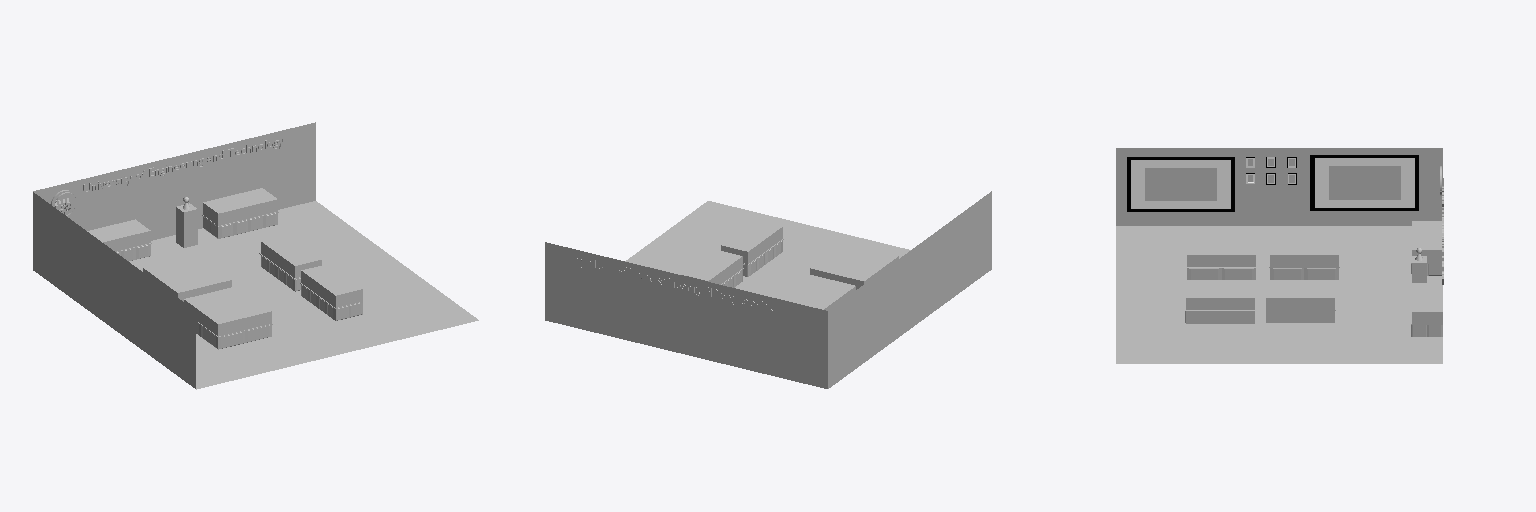
Rendered from room.obj.
The picture shows the model from 3 angles: view 1: azimuth 30°, elevation 25°; view 2: azimuth 150°, elevation 25°; view 3: azimuth 270°, elevation 25°; orthographic projection.
Visible parts, largest first — view 1: Plane_Plane.001, Cube.003, Cube.001, Cube.005, Cube.004, Cube.007, Cube.002, Text, Lập_Phương; view 2: Plane_Plane.001, Cube.003, Cube.005, Cube.004, Cube.007, Text; view 3: Plane_Plane.001, Box006.007_Untitled.007, Box006.006_Untitled.006, Cube.003, Cube.004, Cube.005, Cube.007, Cube.001, Cube.002.
Part boxes in pixels (x1,y1,x2,y2): Plane_Plane.001: (33, 122, 478, 389); Cube.003: (184, 286, 272, 349); Cube.001: (202, 188, 278, 238); Cube.005: (300, 264, 362, 320); Cube.004: (143, 255, 231, 301); Cube.007: (259, 235, 321, 291); Cube.002: (87, 219, 151, 261); Text: (83, 139, 283, 192); Lập_Phương: (176, 203, 197, 247); Plane_Plane.001: (545, 191, 991, 388); Cube.003: (810, 243, 898, 289); Cube.005: (721, 220, 783, 276); Cube.004: (770, 273, 855, 310); Cube.007: (682, 250, 743, 287); Text: (577, 258, 776, 311); Plane_Plane.001: (1116, 148, 1442, 363); Box006.007_Untitled.007: (1310, 155, 1418, 210); Box006.006_Untitled.006: (1127, 157, 1234, 211); Cube.003: (1186, 229, 1256, 279); Cube.004: (1269, 229, 1339, 279); Cube.005: (1185, 285, 1254, 323); Cube.007: (1266, 285, 1335, 322); Cube.001: (1411, 283, 1442, 336); Cube.002: (1411, 221, 1441, 275).
Size of the model in its own units: 20 by 5.31 by 20.02.